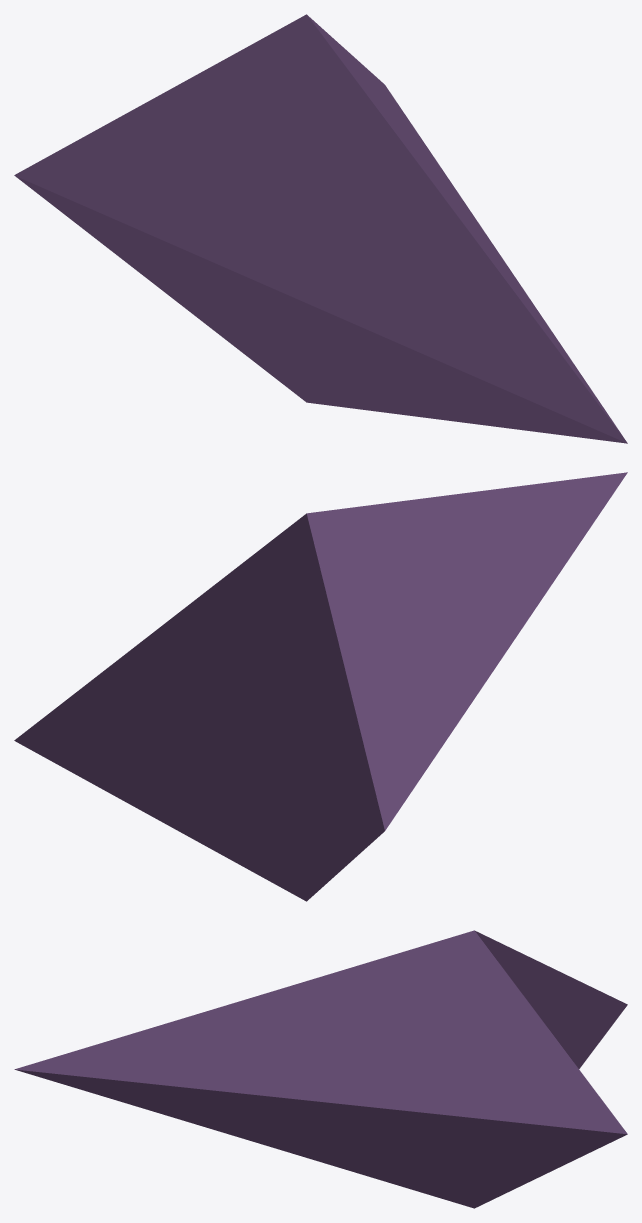
Rendered from BlackBronzeArrowheadStack1.glb.
The picture shows the model from 3 angles, top to bottom: view 1: azimuth 30°, elevation 25°; view 2: azimuth 150°, elevation 25°; view 3: azimuth 270°, elevation 25°; orthographic projection. The views are drawn at different scales.
Visible parts, largest first — view 1: BlackBronzeArrowheadStack1; view 2: BlackBronzeArrowheadStack1; view 3: BlackBronzeArrowheadStack1.
Part boxes in pixels (x1,y1,x2,y2): BlackBronzeArrowheadStack1: [14, 14, 627, 443]; BlackBronzeArrowheadStack1: [14, 472, 627, 901]; BlackBronzeArrowheadStack1: [14, 930, 627, 1208].
Size of the model in its own units: 0.0506 by 0.0506 by 0.1011.
